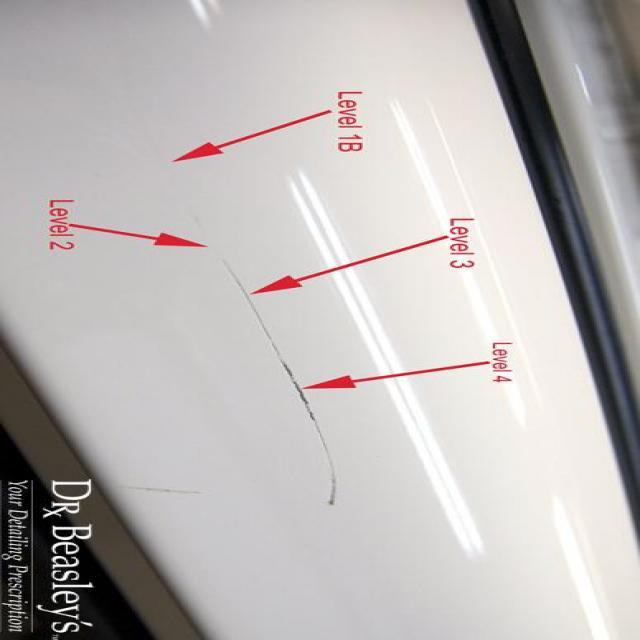scratch: (199, 254, 349, 512)
